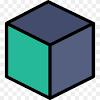cubos: (3, 0, 100, 100)
